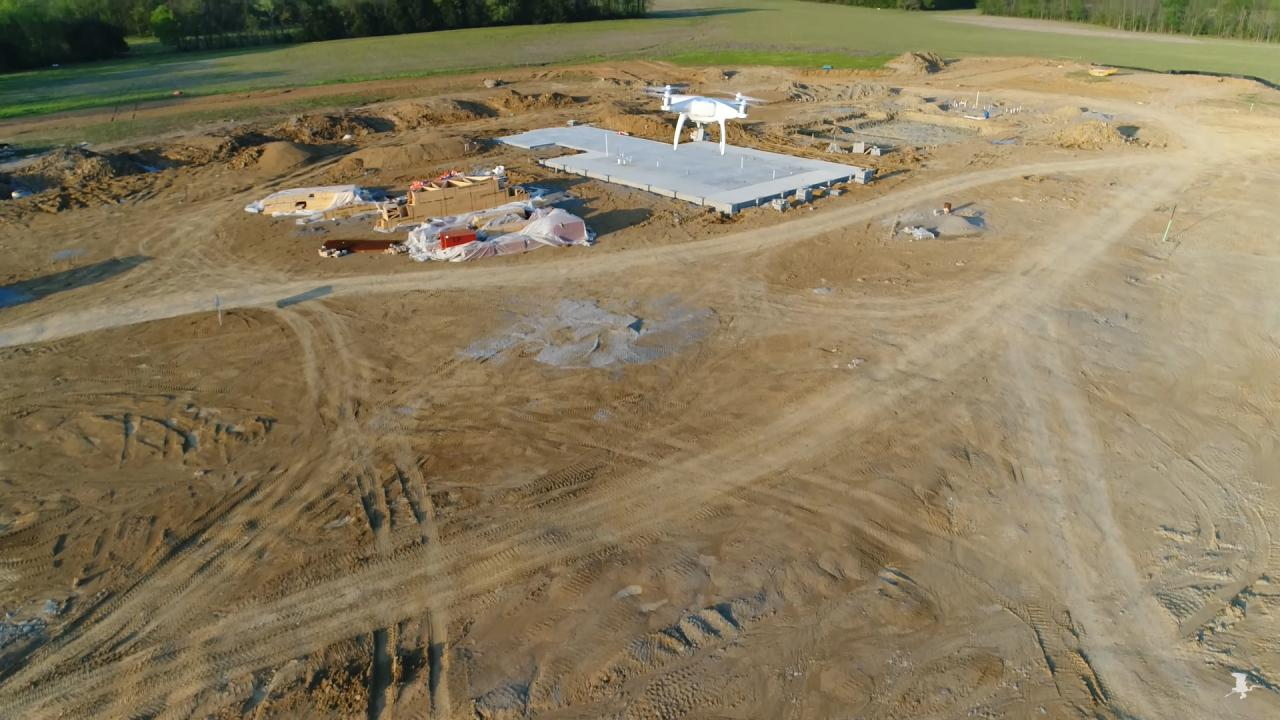Drone: (626, 76, 782, 164)
